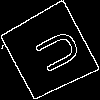U: (24, 26, 84, 80)
